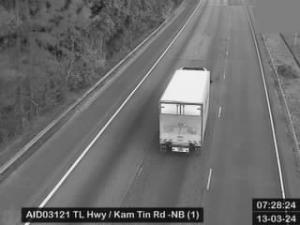truck: (157, 66, 210, 156)
